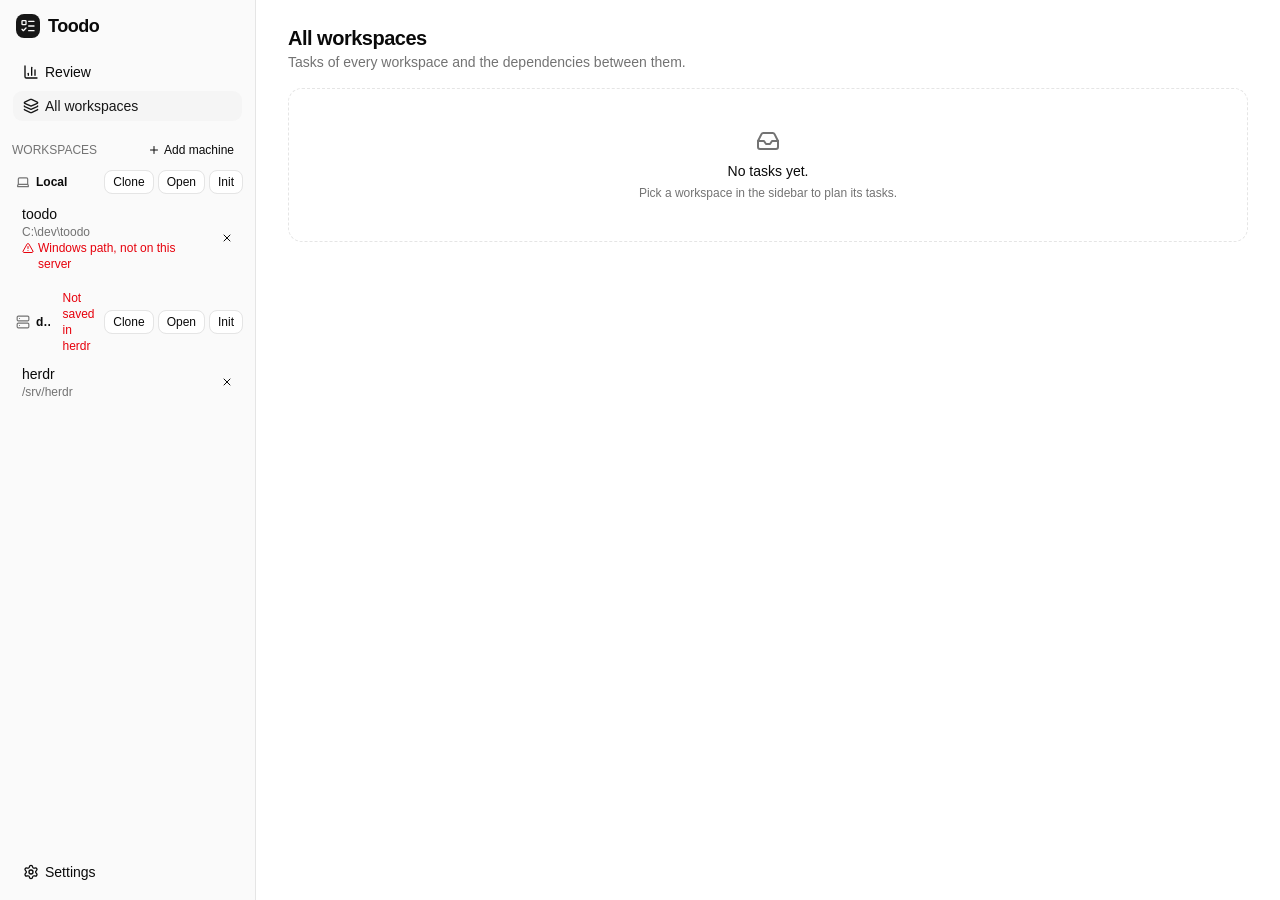
Test: App › flags a workspace whose path the server cannot use in the sidebar and its header
Click the button "toodo C:\\dev\\toodo Windows path, not on this server": (114, 238) x1=12 y1=198 x2=215 y2=278
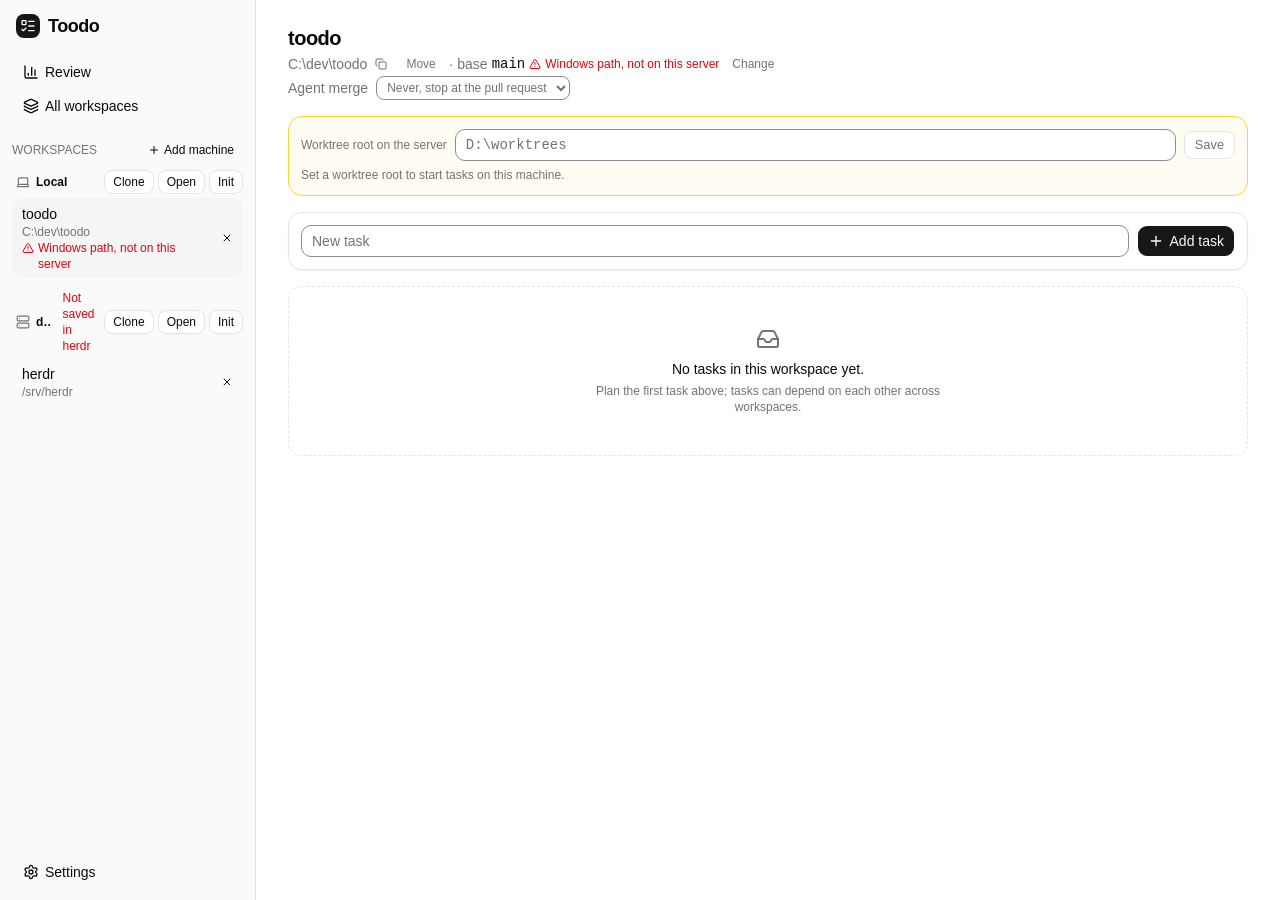
Now the text "Windows path, not on this server" is shown 2 times, box x1=38 y1=241 x2=175 y2=271; x1=545 y1=56 x2=719 y2=72
